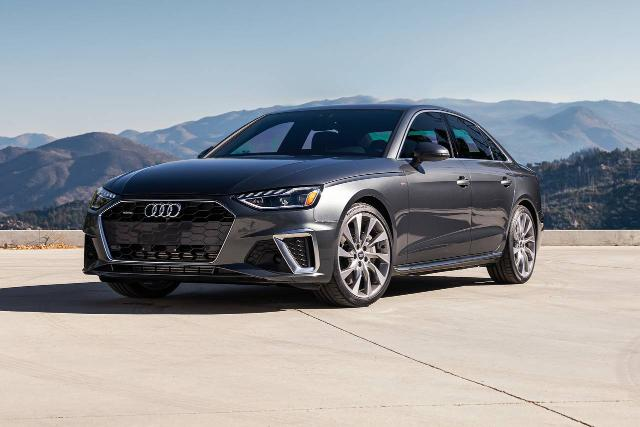audi: (81, 105, 543, 309)
